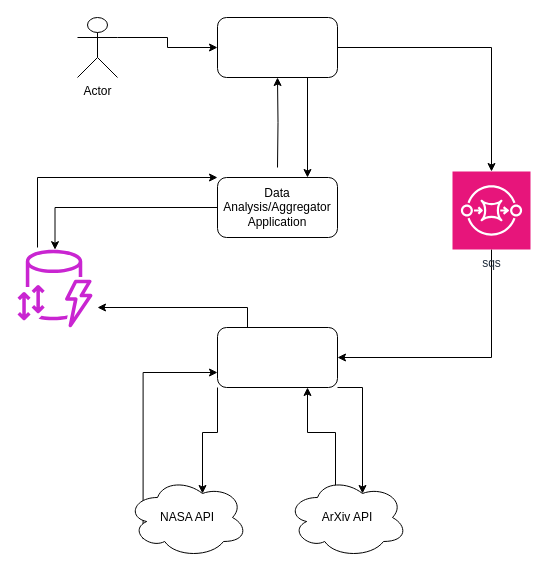
Some shapes in this 548 by 575 pixel diagram are drawn without their labels. The centre of each missing label's shape, as x and y in pixels:
"Data Collection Application" goes at [277,357].
"DynamoDB" goes at [54,288].
"Web Application" goes at [277,47].
